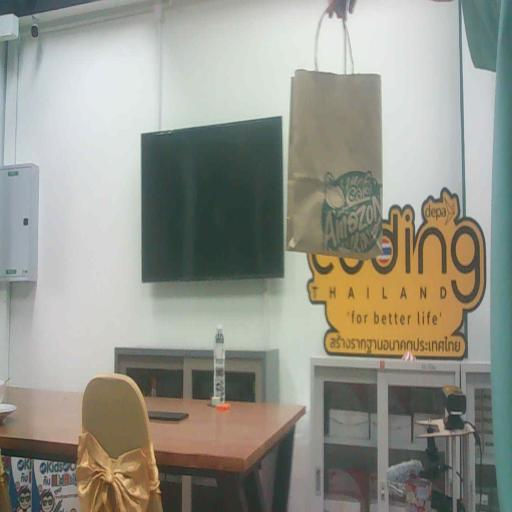bag: (279, 68, 390, 266)
